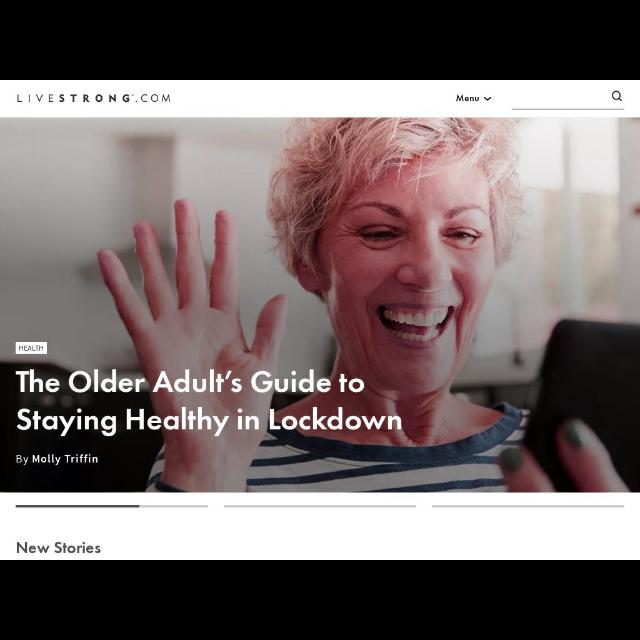backgroundimage: (1, 117, 639, 493)
icon: (610, 91, 622, 103), (484, 96, 492, 102)
image: (16, 92, 170, 104)
input: (512, 90, 624, 108)
spinner: (454, 93, 494, 105), (458, 95, 494, 104)
text: (16, 370, 402, 432), (17, 538, 102, 556), (16, 455, 100, 465), (17, 344, 45, 352), (457, 94, 479, 102)
toolbar: (1, 81, 639, 117)
